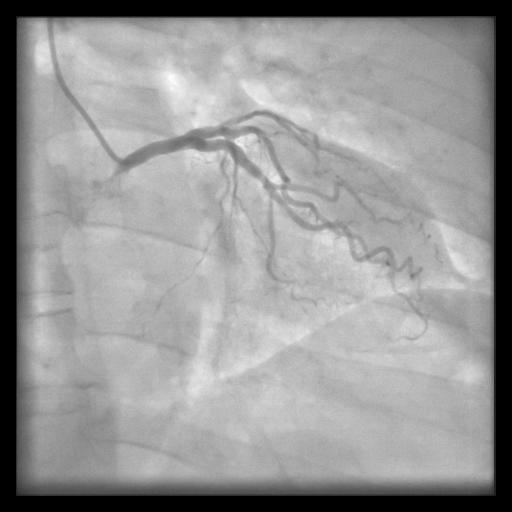Stenosis: (257, 168, 267, 187)
